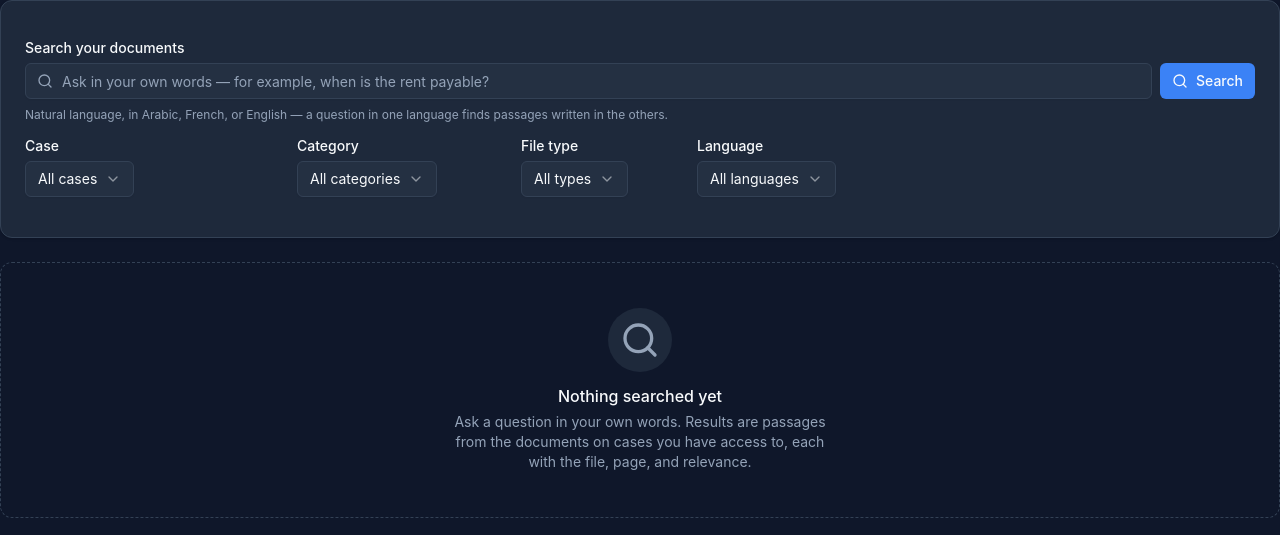
Test: SemanticSearch › names the dependency when search is unavailable
The width and height of the screenshot is (1280, 535).
Type "loyer payable d'avance" into the search field labelled "Search your documents" at point(588, 81), box [25,63,1152,99]
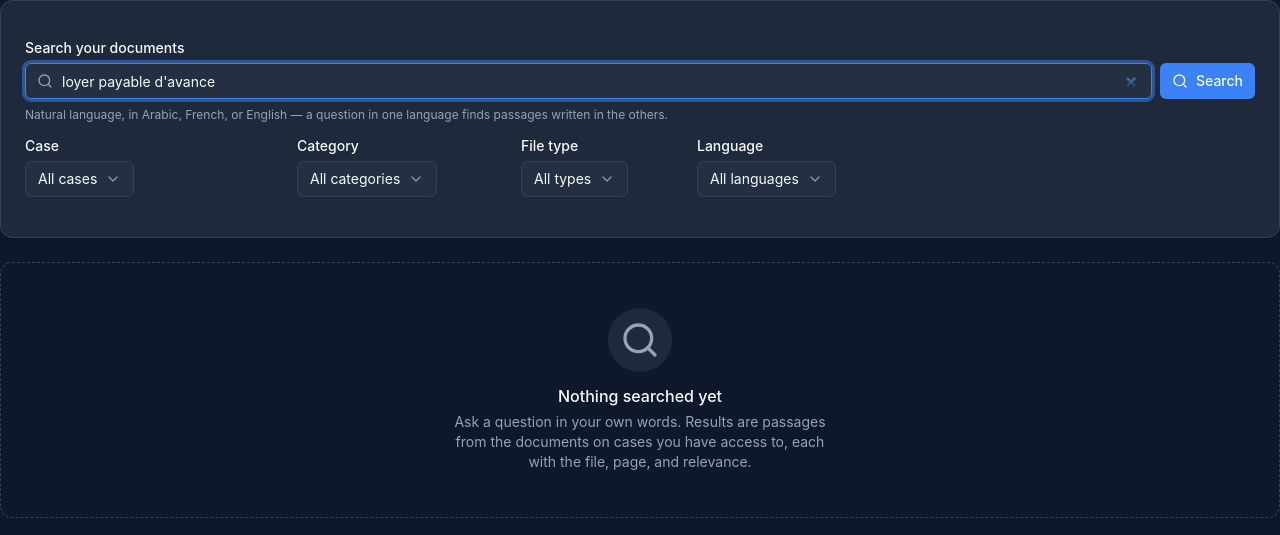
Click the button "Search" at point(1208, 81), box [1160,63,1255,99]
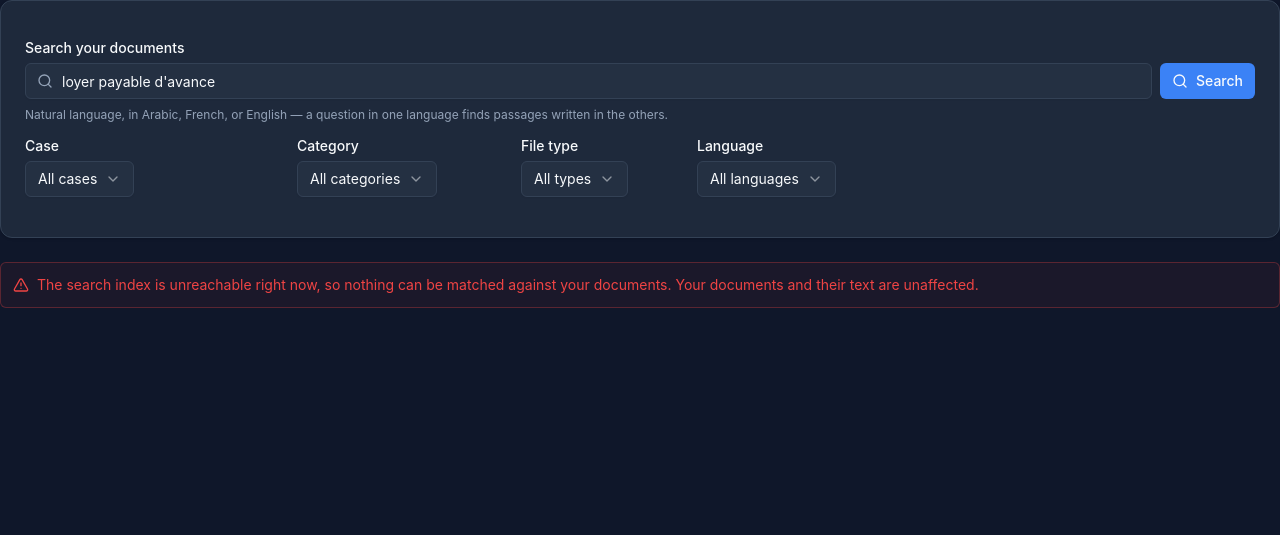
Now the message shows "search index is unreachable", box [37,276,672,293]
